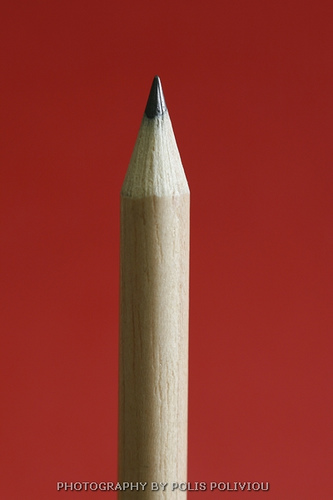pen_tip: (121, 68, 196, 224)
